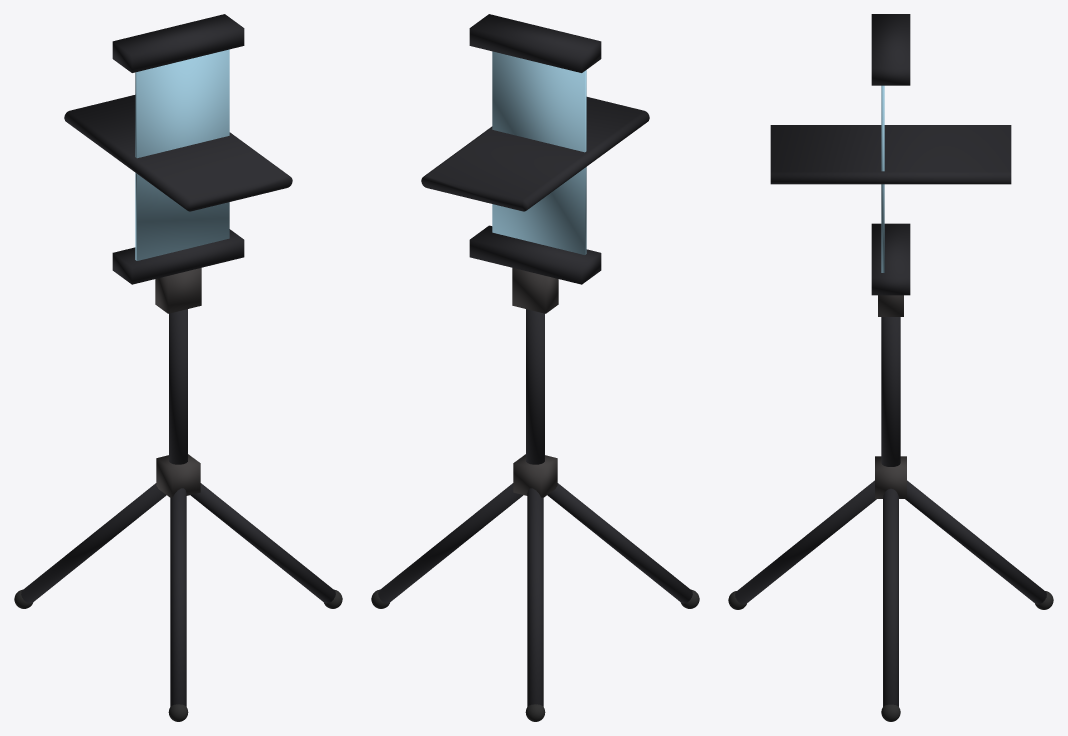
Rendered from tripod.glb.
3 views of the same model, side by side, from view 1: azimuth 30°, elevation 25°; view 2: azimuth 150°, elevation 25°; view 3: azimuth 270°, elevation 25° (orthographic).
Visible parts, largest first — view 1: part0, part11, part10, part1, part3; view 2: part0, part11, part10, part1, part3; view 3: part0, part10, part1, part11, part3.
Part boxes in pixels (box(x1,y1,x2,y2)): part0: box(21, 14, 335, 706); part11: box(135, 49, 229, 260); part10: box(64, 95, 292, 211); part1: box(155, 268, 201, 497); part3: box(14, 589, 342, 721); part0: box(378, 14, 692, 706); part11: box(492, 51, 586, 254); part10: box(421, 97, 649, 211); part1: box(512, 268, 558, 497); part3: box(371, 589, 699, 721); part0: box(735, 14, 1046, 706); part10: box(770, 125, 1011, 184); part1: box(875, 295, 906, 498); part11: box(881, 85, 884, 272); part3: box(728, 591, 1053, 721).
Bounding box in the file's own units: 0.4255 × 1 × 0.4868.
